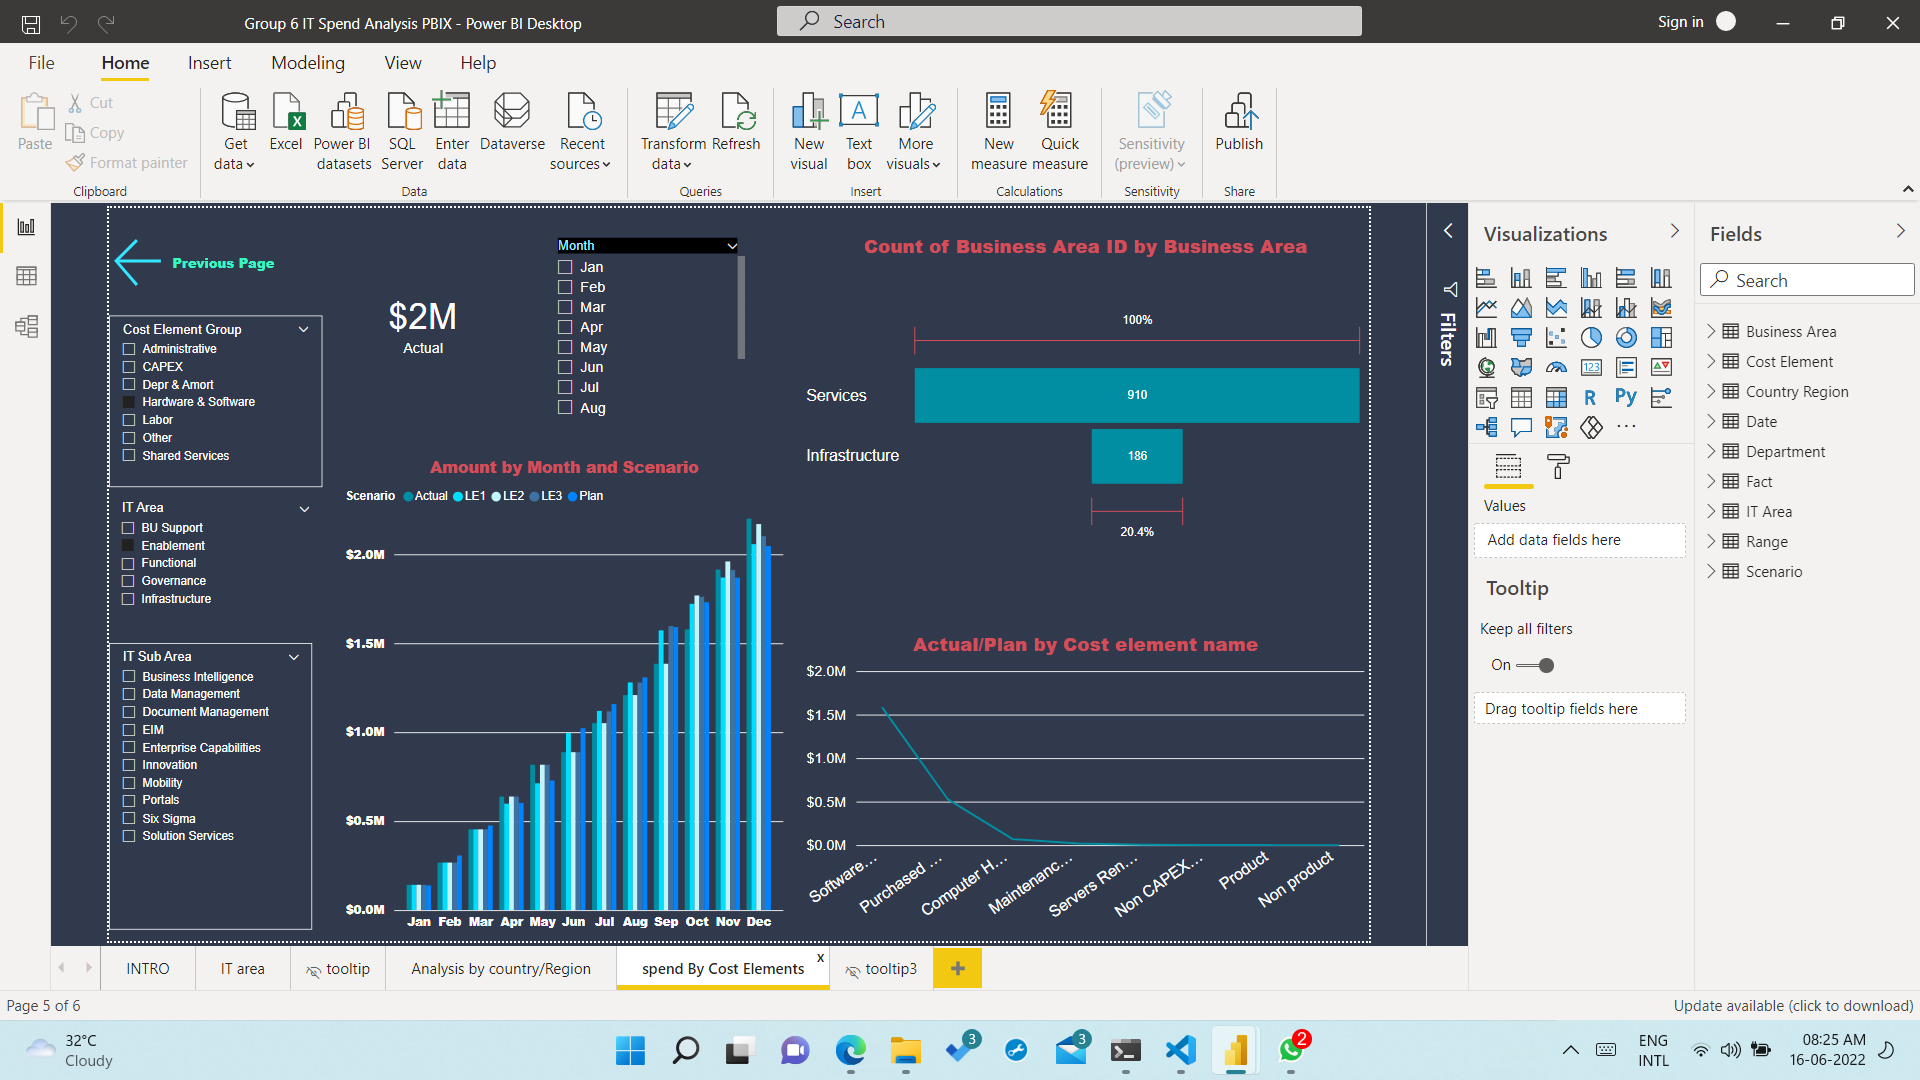

The page's visual inventory and layout, read from the dashboard file:
{"tool":"powerbi","page":{"name":"spend By Cost Elements","canvas":[1280,720],"ordinal":4},"visuals":[{"type":"slicer","fields":{"Values":["Cost Element.Cost Element Group"]},"box":[0,83.2,216.4,174.8],"z":0},{"type":"slicer","fields":{"Values":["IT Area.IT Area"]},"box":[0,266.4,216.4,126.2],"z":1000},{"type":"slicer","fields":{"Values":["IT Area.IT Sub Area"]},"box":[0,416.2,206.7,291.3],"z":2000},{"type":"card","fields":{"Values":["Fact.Actual"]},"box":[216.4,0,206.7,183.1],"z":3000},{"type":"funnel","fields":{"Category":["Business Area.Business Area"],"Y":["CountNonNull(Fact.Business Area ID)"]},"box":[703.4,0,577.1,364.9],"z":4000},{"type":"clusteredColumnChart","fields":{"Y":["Fact.Amount"],"Category":["Date.Month"],"Series":["Scenario.Scenario"]},"box":[234.5,226.1,455,493.9],"z":5000},{"type":"slicer","fields":{"Values":["Date.Month"]},"box":[442.5,0,208.1,192.8],"z":6000},{"type":"lineChart","fields":{"Category":["Cost Element.Cost element name"],"Y":["Fact.Actual/Plan"]},"box":[703.4,403.7,577.1,303.8],"z":7000},{"type":"actionButton","box":[0,0,172,59.7],"z":8000}]}

Visuals, with their boxes on the page's 1280x720 design canvas (x1, y1, x2, y2). These are canvas units, not pixel positions in the 1920x1080 screenshot, which may show the page scaled, cropped or inside an application window:
slicer - Cost Element.Cost Element Group: 0,83,216,258
slicer - IT Area.IT Area: 0,266,216,393
slicer - IT Area.IT Sub Area: 0,416,207,708
card - Fact.Actual: 216,0,423,183
funnel - Business Area.Business Area x CountNonNull(Fact.Business Area ID): 703,0,1280,365
clusteredColumnChart - Fact.Amount x Date.Month: 234,226,690,720
slicer - Date.Month: 442,0,651,193
lineChart - Cost Element.Cost element name x Fact.Actual/Plan: 703,404,1280,708
actionButton: 0,0,172,60
